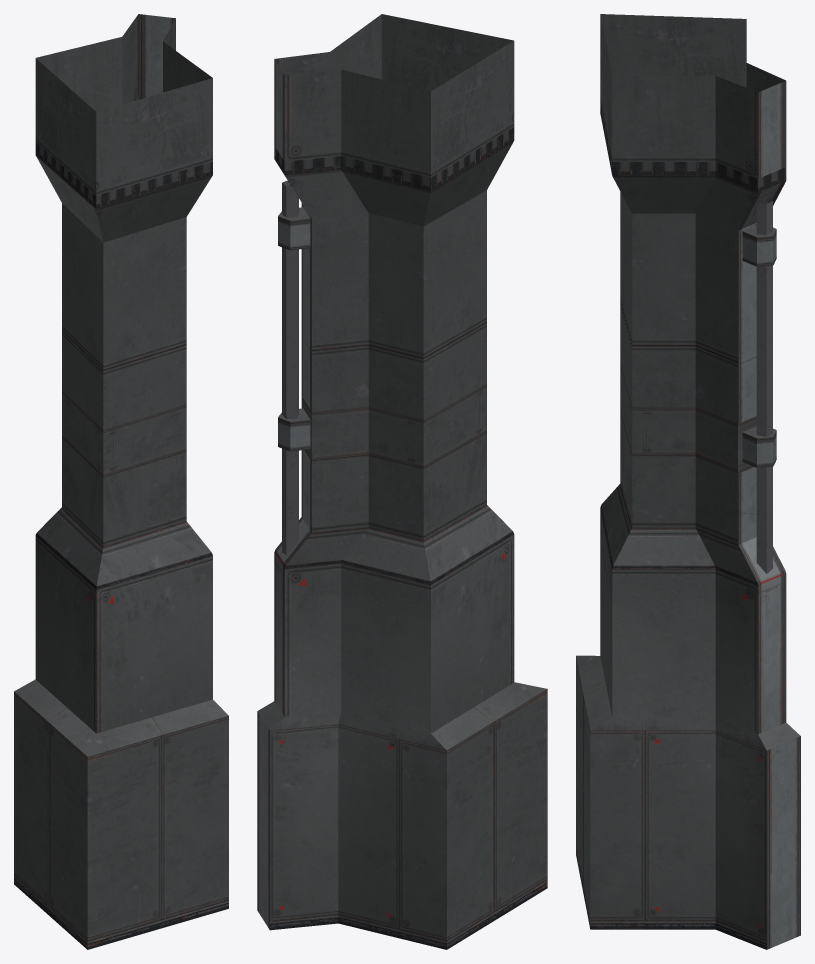
File: ARC0910088.fbx
The picture shows the model from 3 angles, left to right: view 1: azimuth 30°, elevation 25°; view 2: azimuth 150°, elevation 25°; view 3: azimuth 270°, elevation 25°; orthographic projection. The views are drawn at different scales.
Visible parts, largest first — view 1: smARC0910088; view 2: smARC0910088; view 3: smARC0910088.
Boxes of the visible parts, bbox=[...] form: smARC0910088: bbox=[14, 14, 228, 949]; smARC0910088: bbox=[257, 14, 547, 949]; smARC0910088: bbox=[576, 14, 800, 949].
Size of the model in its own units: 120 by 500 by 120.
Materials: 1 (1 with a texture image).
